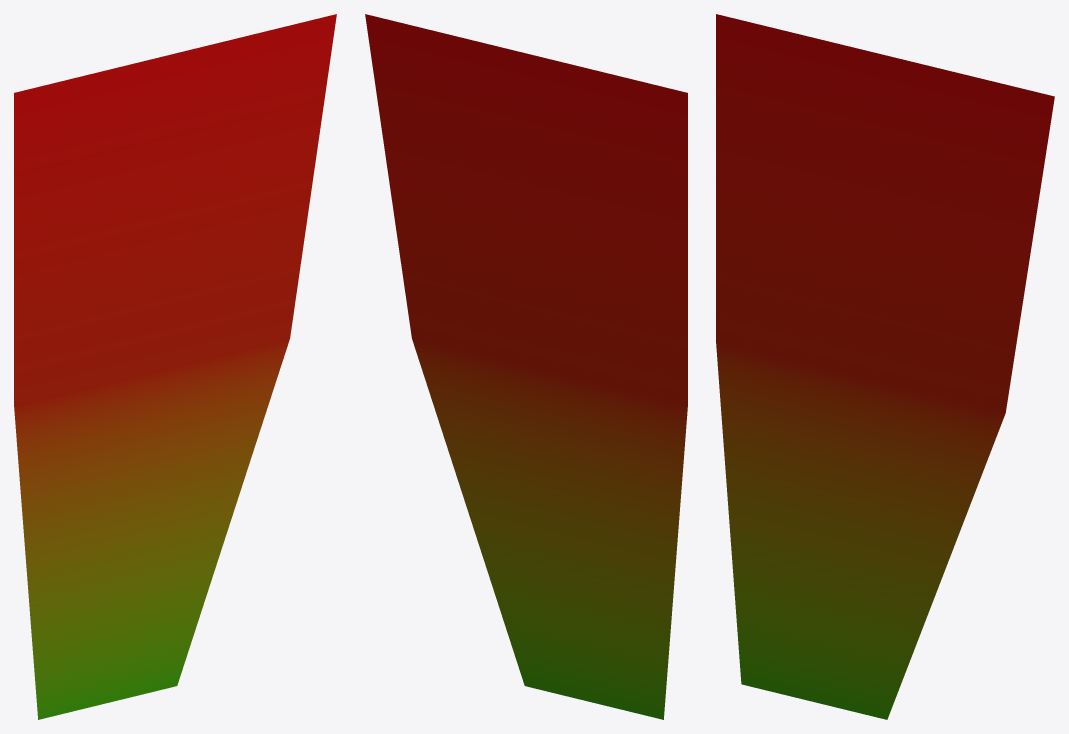
File: Dragon Tree_LOD3_Var5_siumT.fbx
The picture shows the model from 3 angles, left to right: view 1: azimuth 30°, elevation 25°; view 2: azimuth 150°, elevation 25°; view 3: azimuth 330°, elevation 25°; orthographic projection. The views are drawn at different scales.
Parts seen in each view (by area): view 1: _fb0c_Var5_LOD3; view 2: _fb0c_Var5_LOD3; view 3: _fb0c_Var5_LOD3.
Boxes of the visible parts, left/top/right/bottom form: _fb0c_Var5_LOD3: left=14, top=14, right=336, bottom=719; _fb0c_Var5_LOD3: left=365, top=14, right=687, bottom=719; _fb0c_Var5_LOD3: left=716, top=14, right=1054, bottom=719.
Bounding box in the file's own units: 58.28 × 109 × 7.63e-06.
